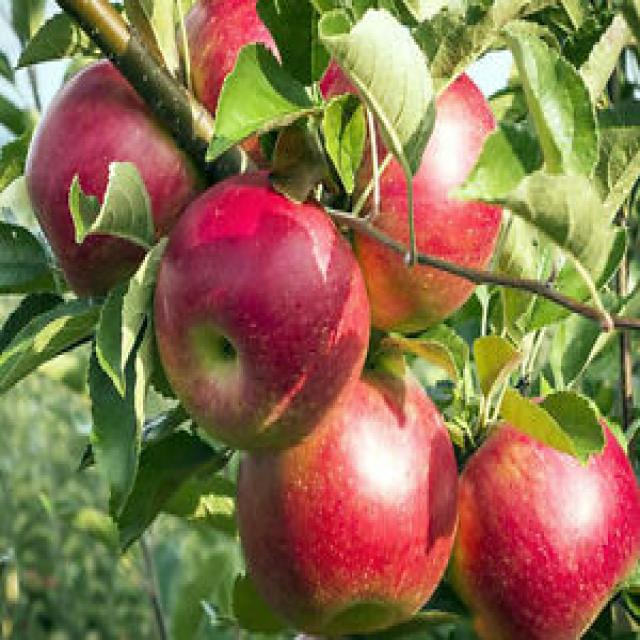apple: (232, 346, 456, 640), (149, 173, 373, 460), (308, 39, 504, 343), (448, 388, 640, 640), (22, 53, 205, 303), (165, 0, 305, 172)
